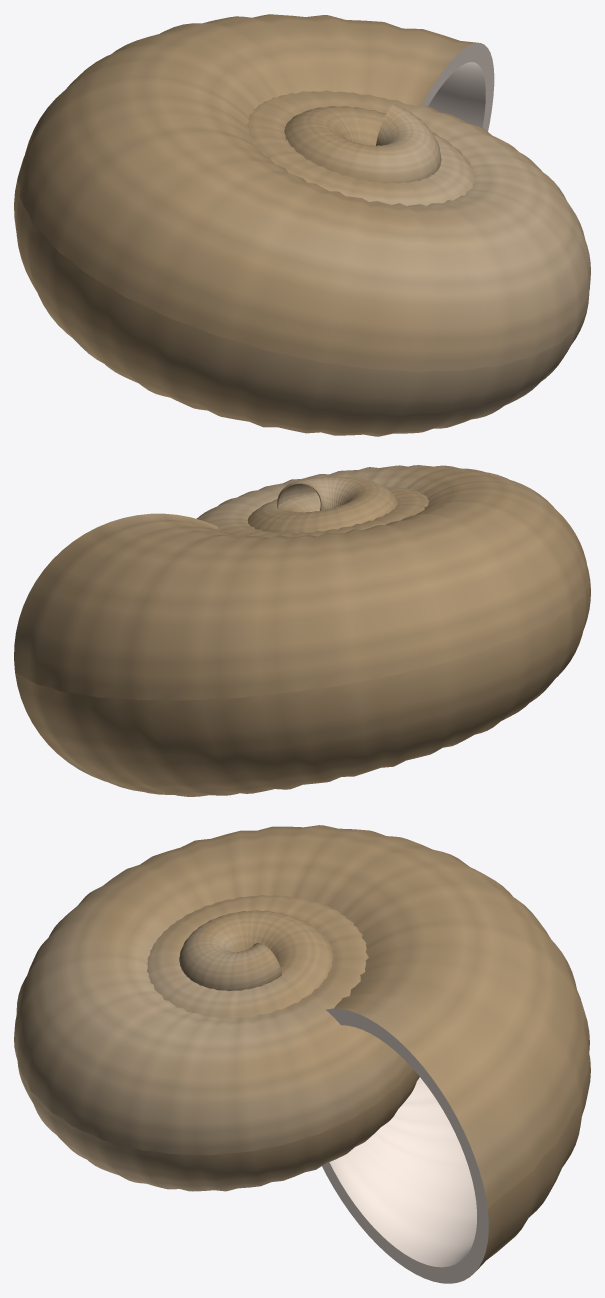
File: periwinkle.glb
3 views of the same model, one above another, from view 1: azimuth 30°, elevation 25°; view 2: azimuth 150°, elevation 25°; view 3: azimuth 270°, elevation 25° (orthographic). The views are drawn at different scales.
Parts seen in each view (by area): view 1: periwinkle; view 2: periwinkle; view 3: periwinkle.
Part boxes in pixels (box(x1,y1,x2,y2)): periwinkle: box(14, 14, 590, 436); periwinkle: box(14, 465, 590, 796); periwinkle: box(14, 825, 590, 1283).
Size of the model in its own units: 1.61 by 0.9941 by 1.65.
